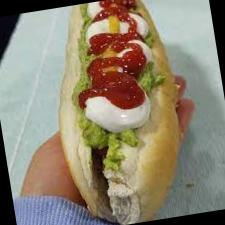Completos: (49, 0, 189, 225)
